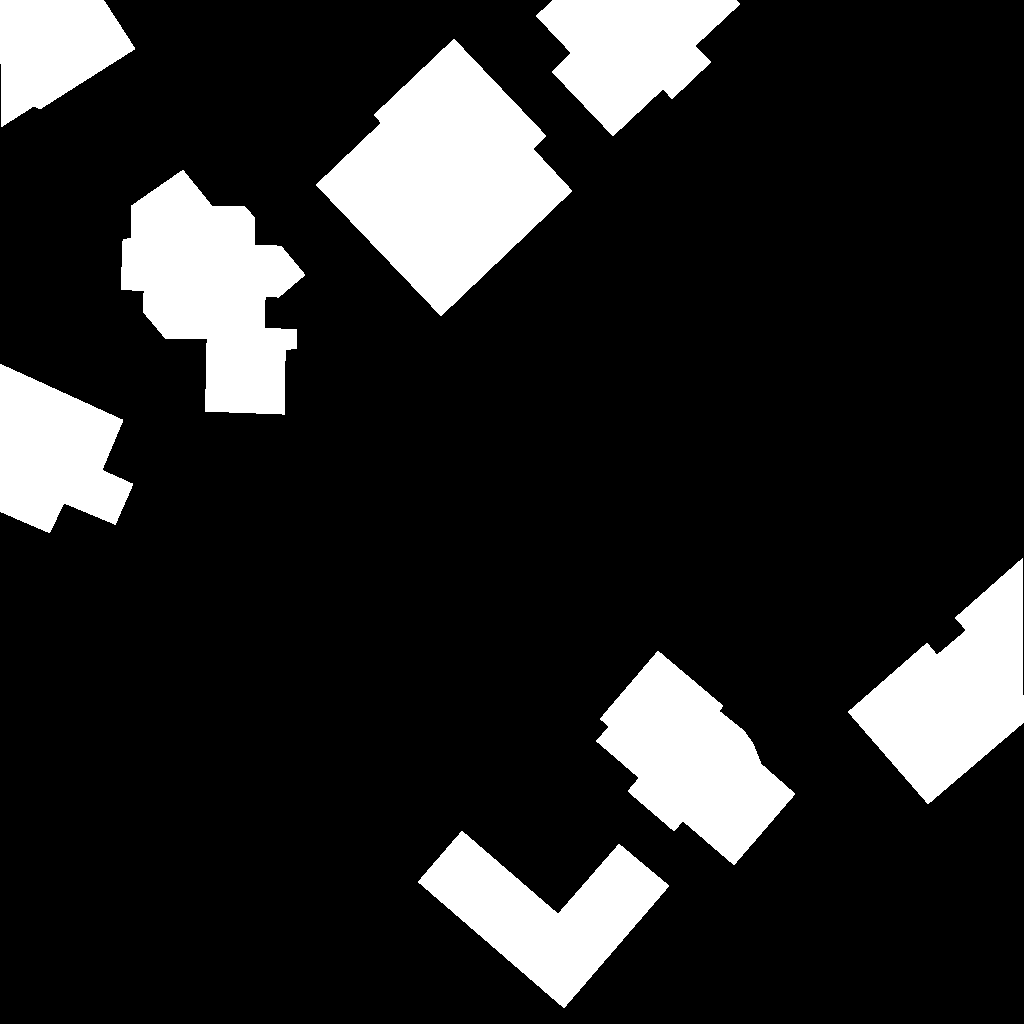building: (316, 39, 573, 317), (121, 170, 306, 415), (418, 831, 670, 1009), (848, 558, 1024, 805), (596, 651, 796, 866), (536, 0, 741, 137), (0, 364, 134, 534), (0, 0, 136, 128)
